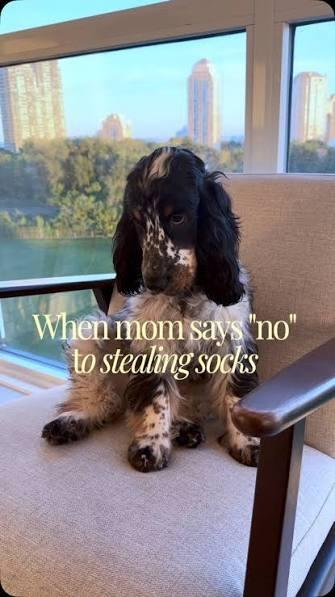adult_dog: (40, 146, 263, 474)
